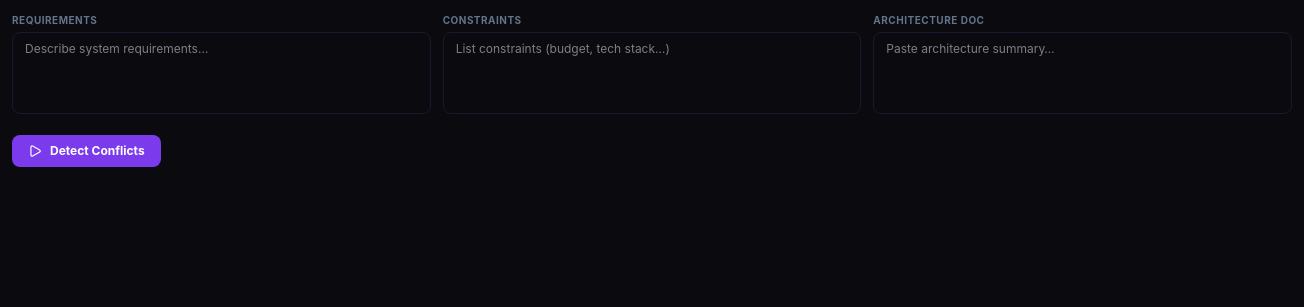
Test: conflict resolution is org-wide (KAN-154) › sends the description so the resolution is recorded for the whole org
Click the button "Detect Conflicts" at (86, 151), box [12,135,161,167]
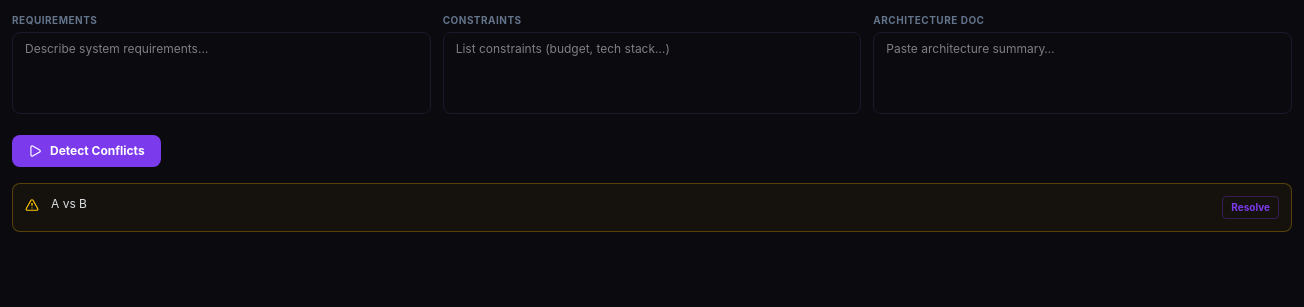
Click the button "Resolve" at (1251, 208), box [1222,196,1279,219]
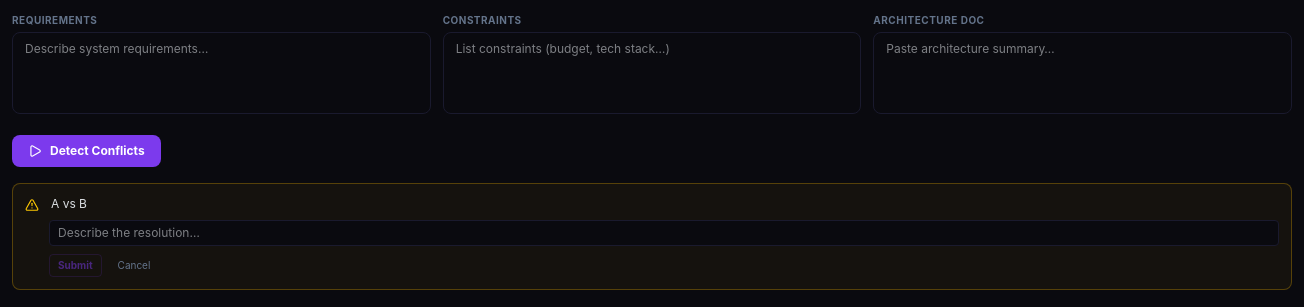
Type "pick A" into the field with placeholder "Describe the resolution…" at (664, 233), box [49,220,1279,246]
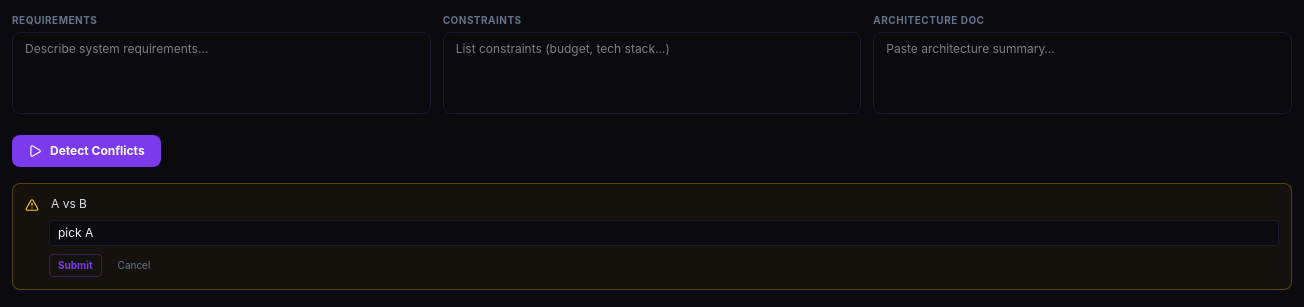
Click the button "Submit" at (75, 266), box [49,254,102,277]
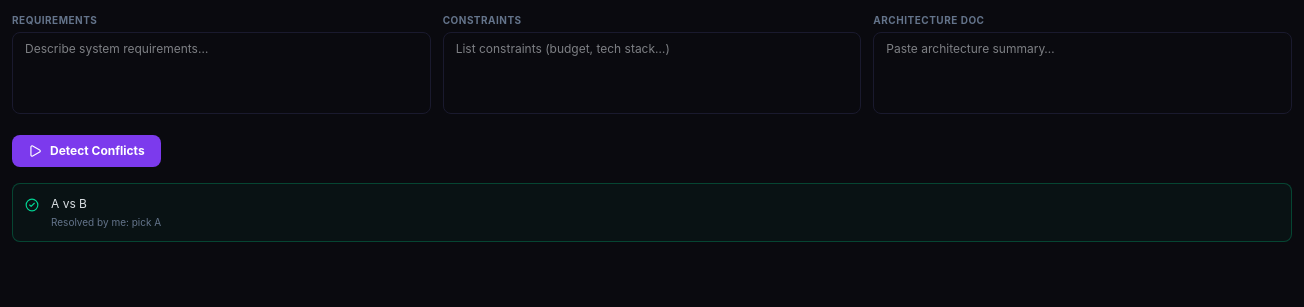
Expected: the text with test id "resolved-by" shows "by me", [94,216,126,228]
